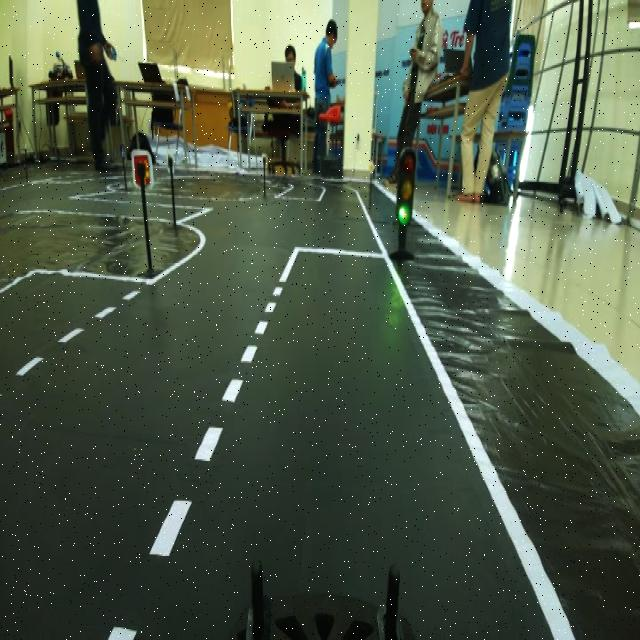trafficlight: (383, 144, 424, 269)
